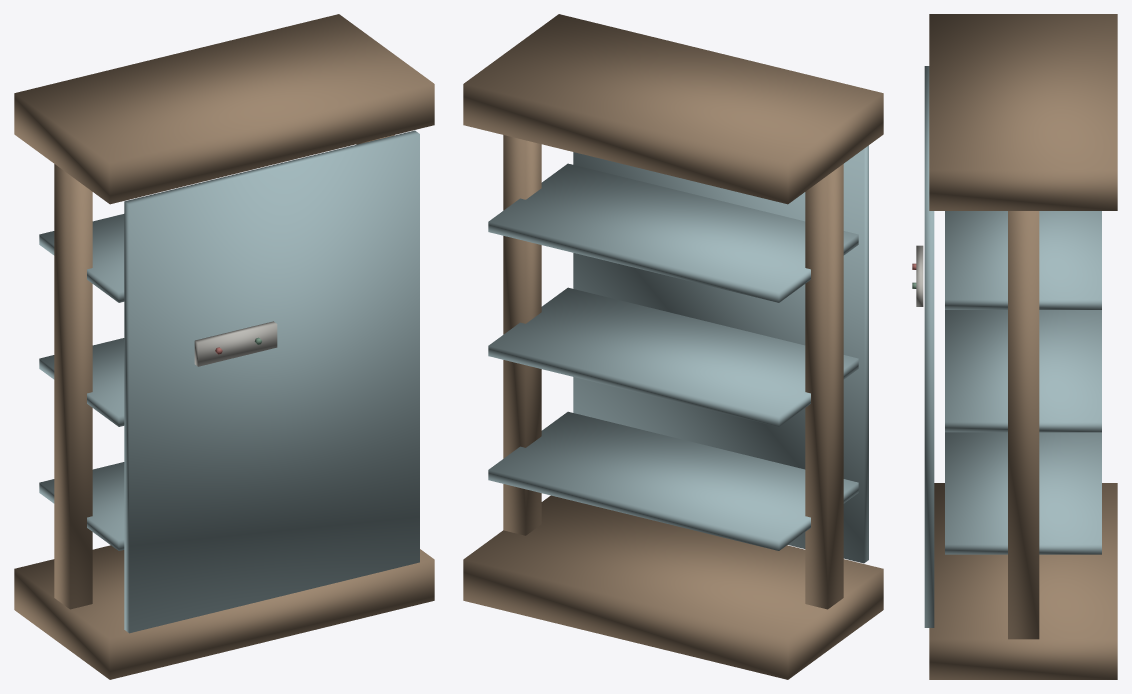
The model's file is glass_display_cabinet__deep.glb.
3 views of the same model, side by side, from view 1: azimuth 30°, elevation 25°; view 2: azimuth 150°, elevation 25°; view 3: azimuth 270°, elevation 25° (orthographic).
Visible parts, largest first — view 1: world; view 2: world; view 3: world.
Boxes of the visible parts, bbox=[...] form: world: bbox=[14, 14, 434, 679]; world: bbox=[463, 14, 883, 679]; world: bbox=[912, 14, 1117, 679].
Size of the model in its own units: 1.15 by 1.75 by 0.6387.
